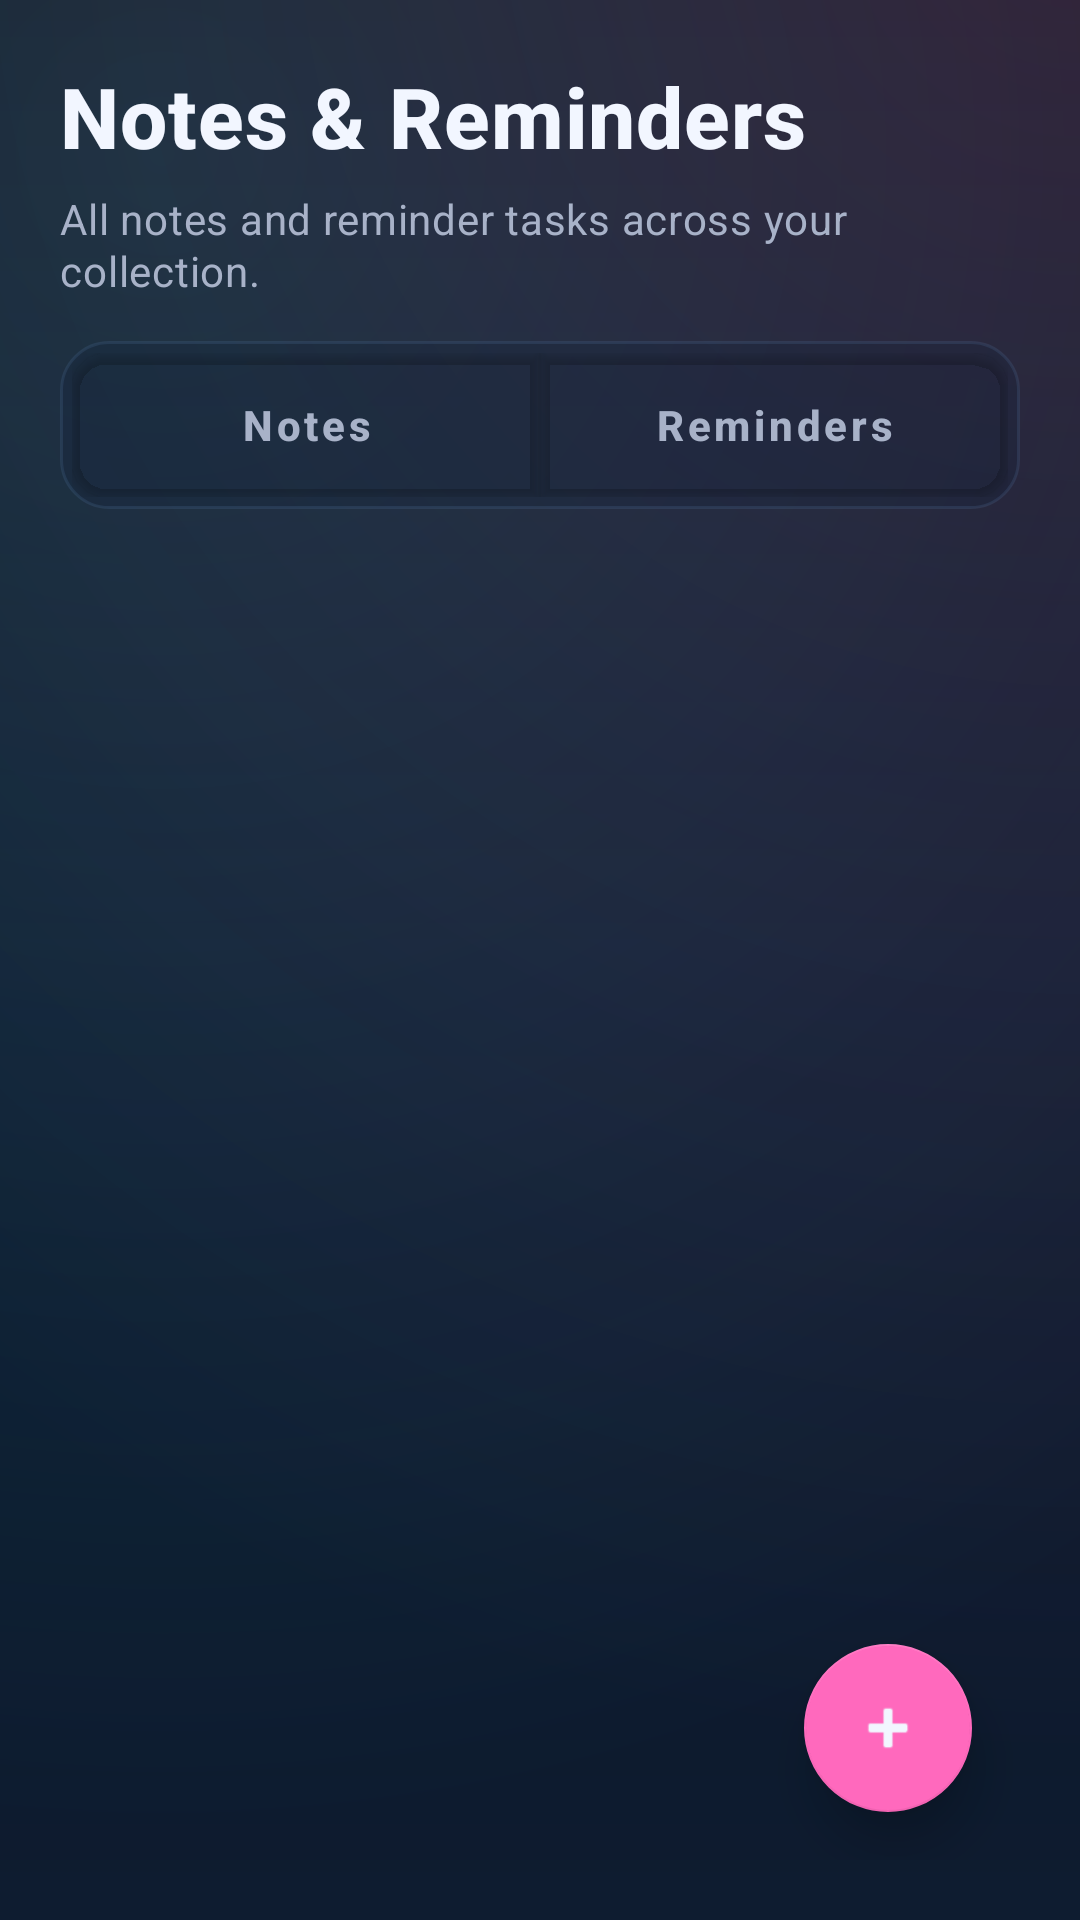

Icon click points for this 1080px×1920px phone screenshot, format point (x, y):
Add note or reminder: point (888, 1728)
